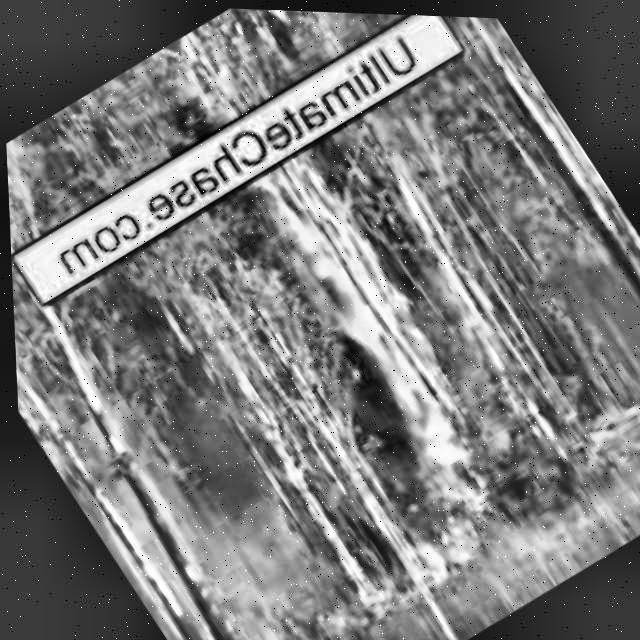Fire: (241, 156, 473, 451), (358, 431, 529, 597), (165, 25, 254, 129)
